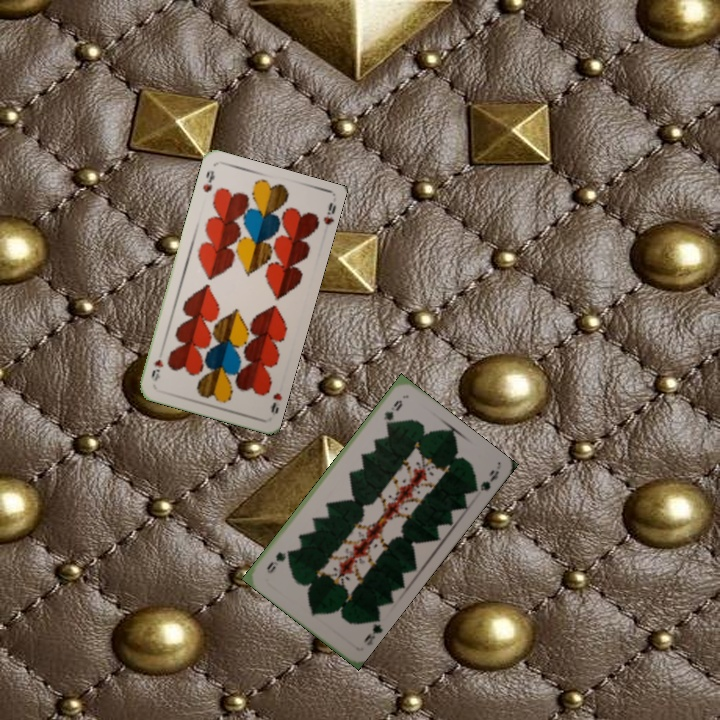G9: (359, 614, 384, 648), (379, 396, 405, 428)
H9: (199, 166, 217, 195), (267, 389, 284, 416)
